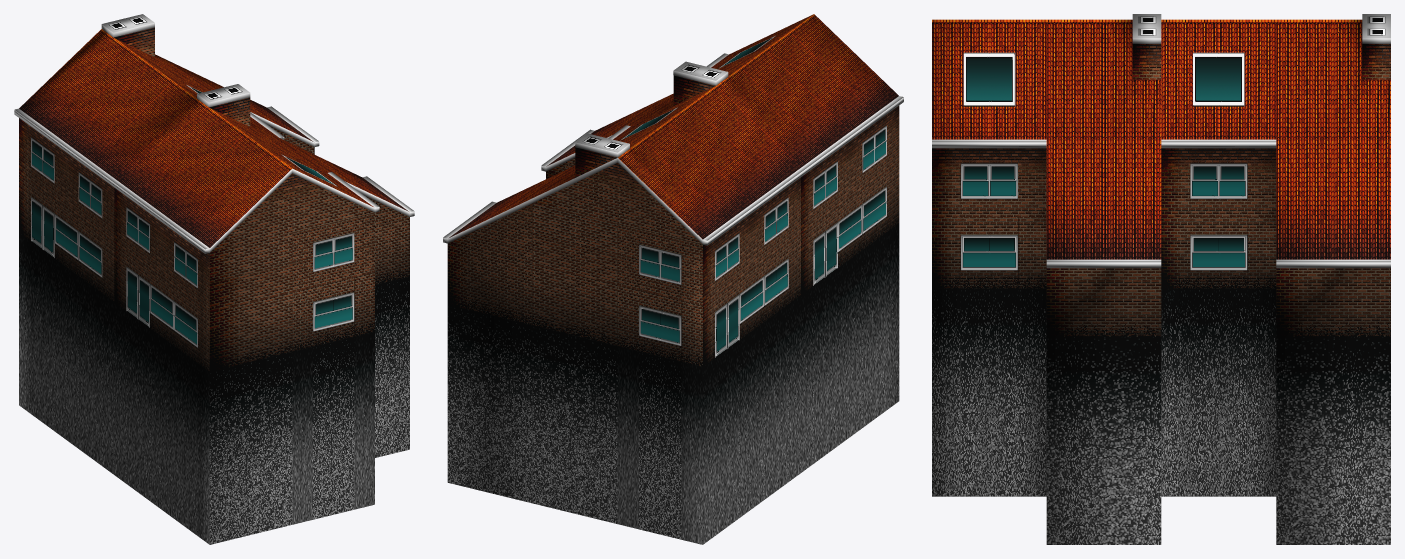
File: doorzon_mod3_2a.fbx
3 renders of one model, left to right at view 1: azimuth 30°, elevation 25°; view 2: azimuth 150°, elevation 25°; view 3: azimuth 270°, elevation 25°, orthographic. The views are drawn at different scales.
Parts seen in each view (by area): view 1: doorzon_mod3_2a; view 2: doorzon_mod3_2a; view 3: doorzon_mod3_2a.
Boxes of the visible parts, x1=… form: doorzon_mod3_2a: x1=14, y1=14, x2=414, y2=544; doorzon_mod3_2a: x1=443, y1=14, x2=903, y2=544; doorzon_mod3_2a: x1=932, y1=14, x2=1390, y2=544.
Bounding box in the file's own units: 1400 × 1879 × 1800.
